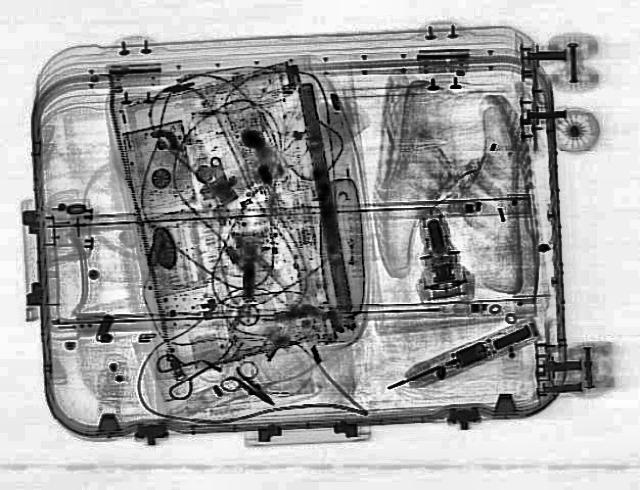Scissors: (211, 358, 293, 416)
